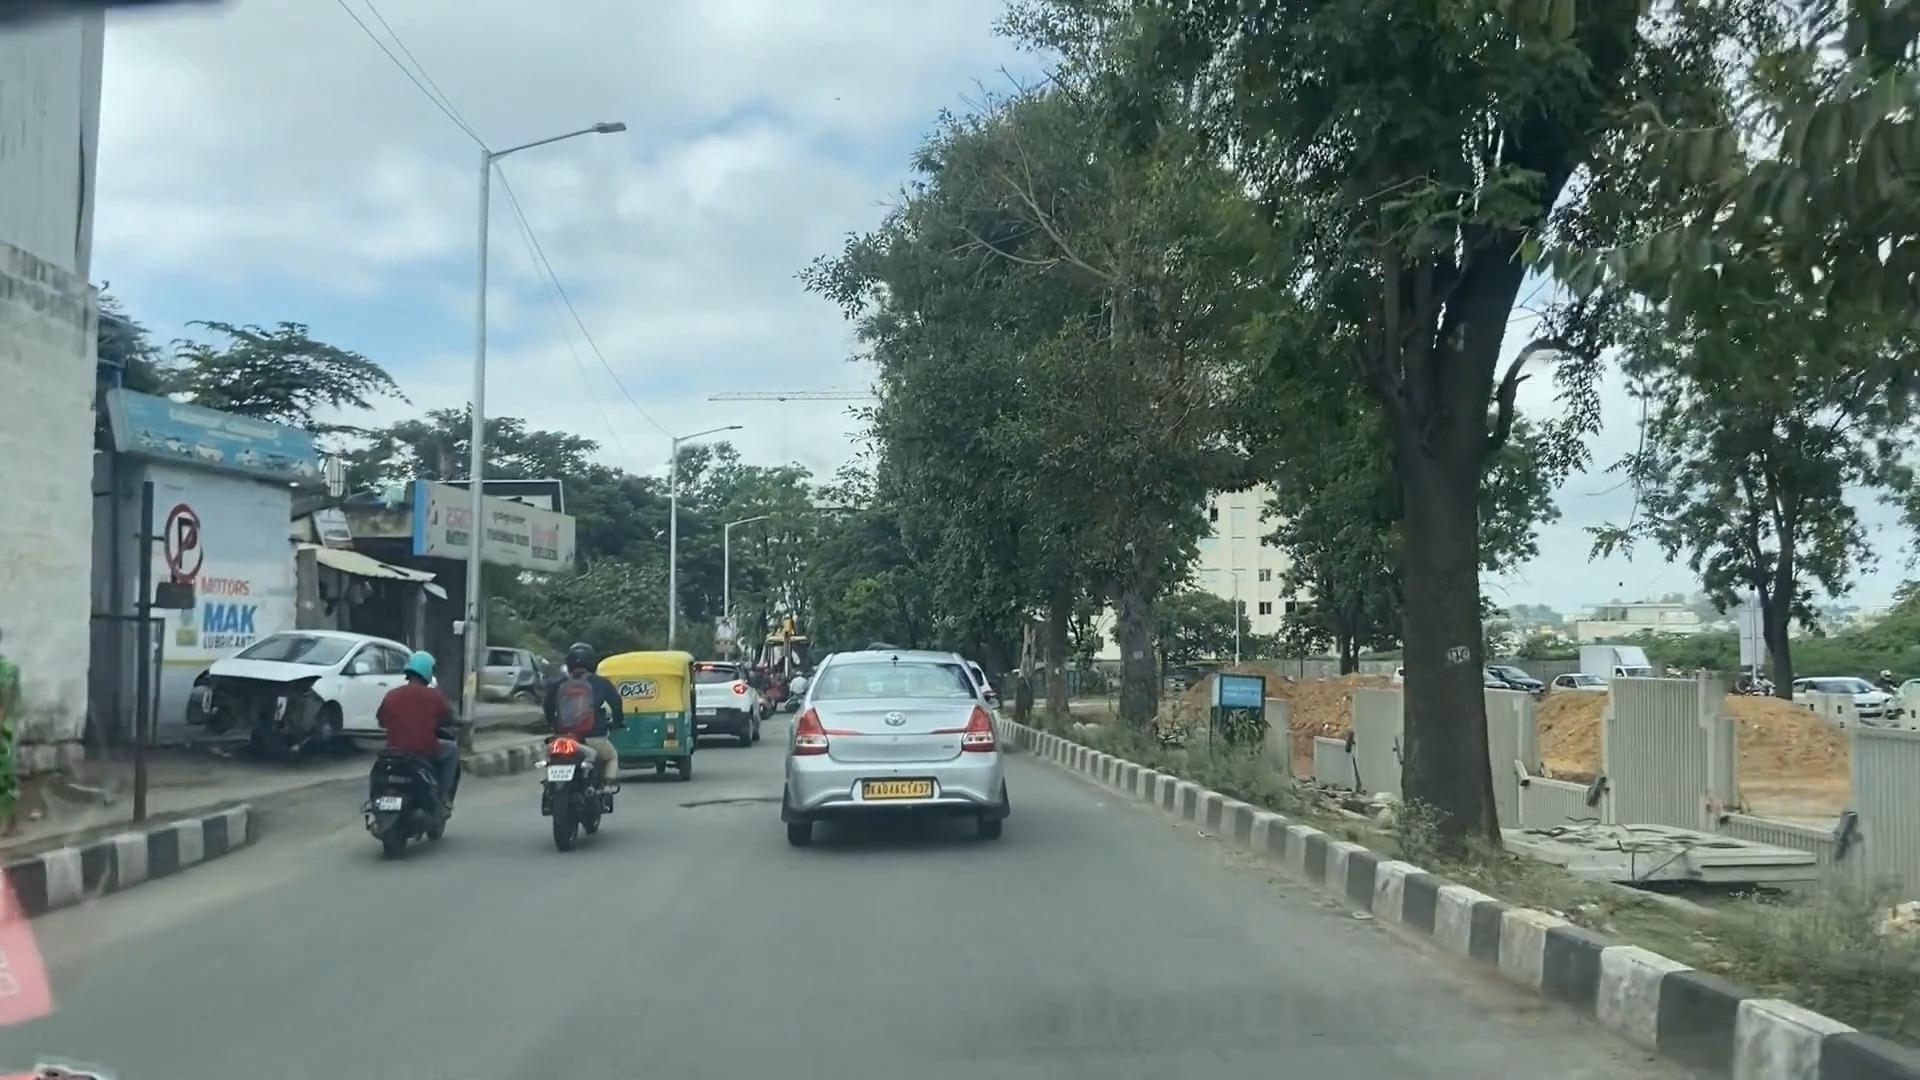LMV: (793, 659, 1002, 849), (367, 647, 458, 849), (549, 636, 620, 849)
RoadDamages: (690, 782, 771, 824)
